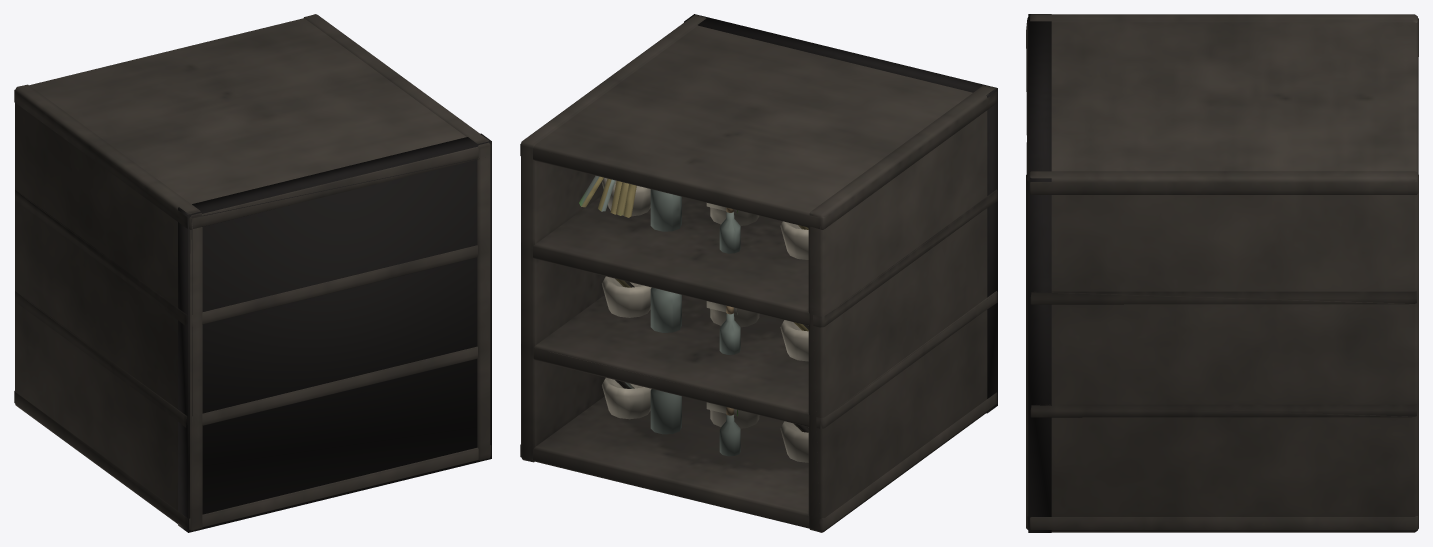
File: apothecary_shelf.obj
The picture shows the model from 3 angles, left to right: view 1: azimuth 30°, elevation 25°; view 2: azimuth 150°, elevation 25°; view 3: azimuth 270°, elevation 25°; orthographic projection. The views are drawn at different scales.
Visible parts, largest first — view 1: part0, part4; view 2: part0, part5, part4, part1, part7; view 3: part0, part4.
Part boxes in pixels (x1,y1,x2,y2): part0: (14, 14, 491, 531); part4: (178, 133, 491, 532); part0: (520, 14, 997, 532); part5: (602, 178, 808, 462); part4: (684, 14, 997, 413); part1: (650, 189, 740, 456); part7: (579, 175, 636, 217); part0: (1026, 14, 1418, 532); part4: (1028, 14, 1051, 532).
Bounding box in the file's own units: 1.01 × 1.01 × 1.01.
